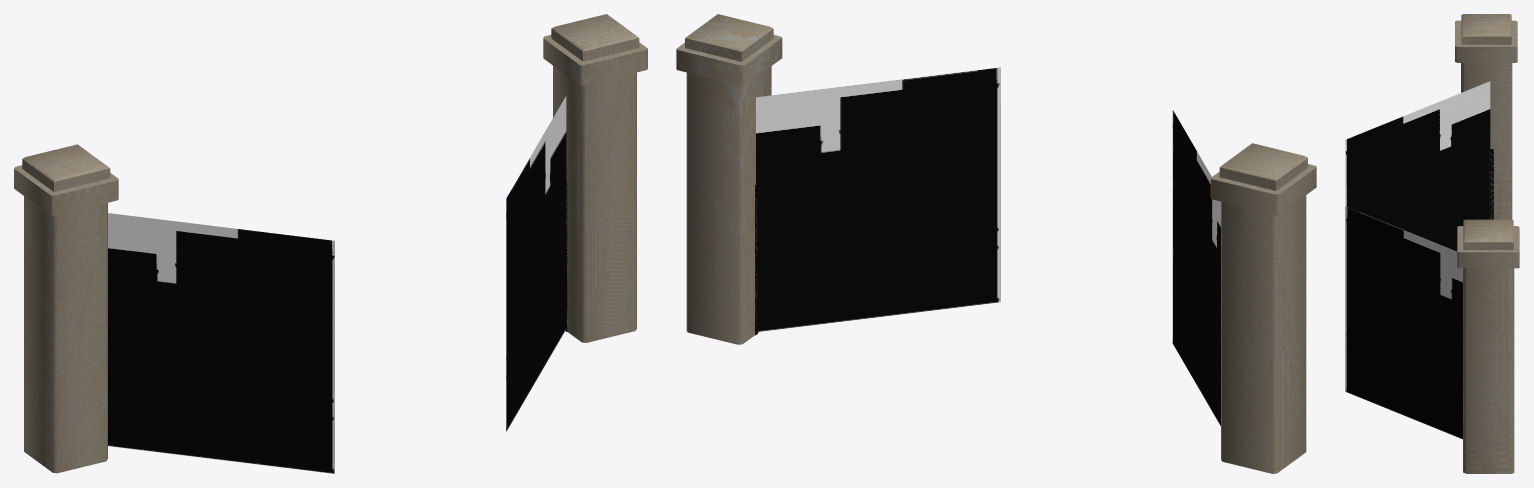
The model's file is Gate.fbx.
3 views of the same model, side by side, from view 1: azimuth 30°, elevation 25°; view 2: azimuth 150°, elevation 25°; view 3: azimuth 270°, elevation 25° (orthographic). The views are drawn at different scales.
Parts seen in each view (by area): view 1: Model; view 2: Model; view 3: Model.
Part boxes in pixels (x1,y1,x2,y2): Model: (14, 14, 647, 473); Model: (676, 14, 1316, 473); Model: (1345, 14, 1519, 473).
Size of the model in its own units: 26.81 by 12.59 by 8.53.
